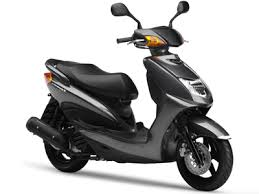motorcycle: (23, 1, 237, 194)
